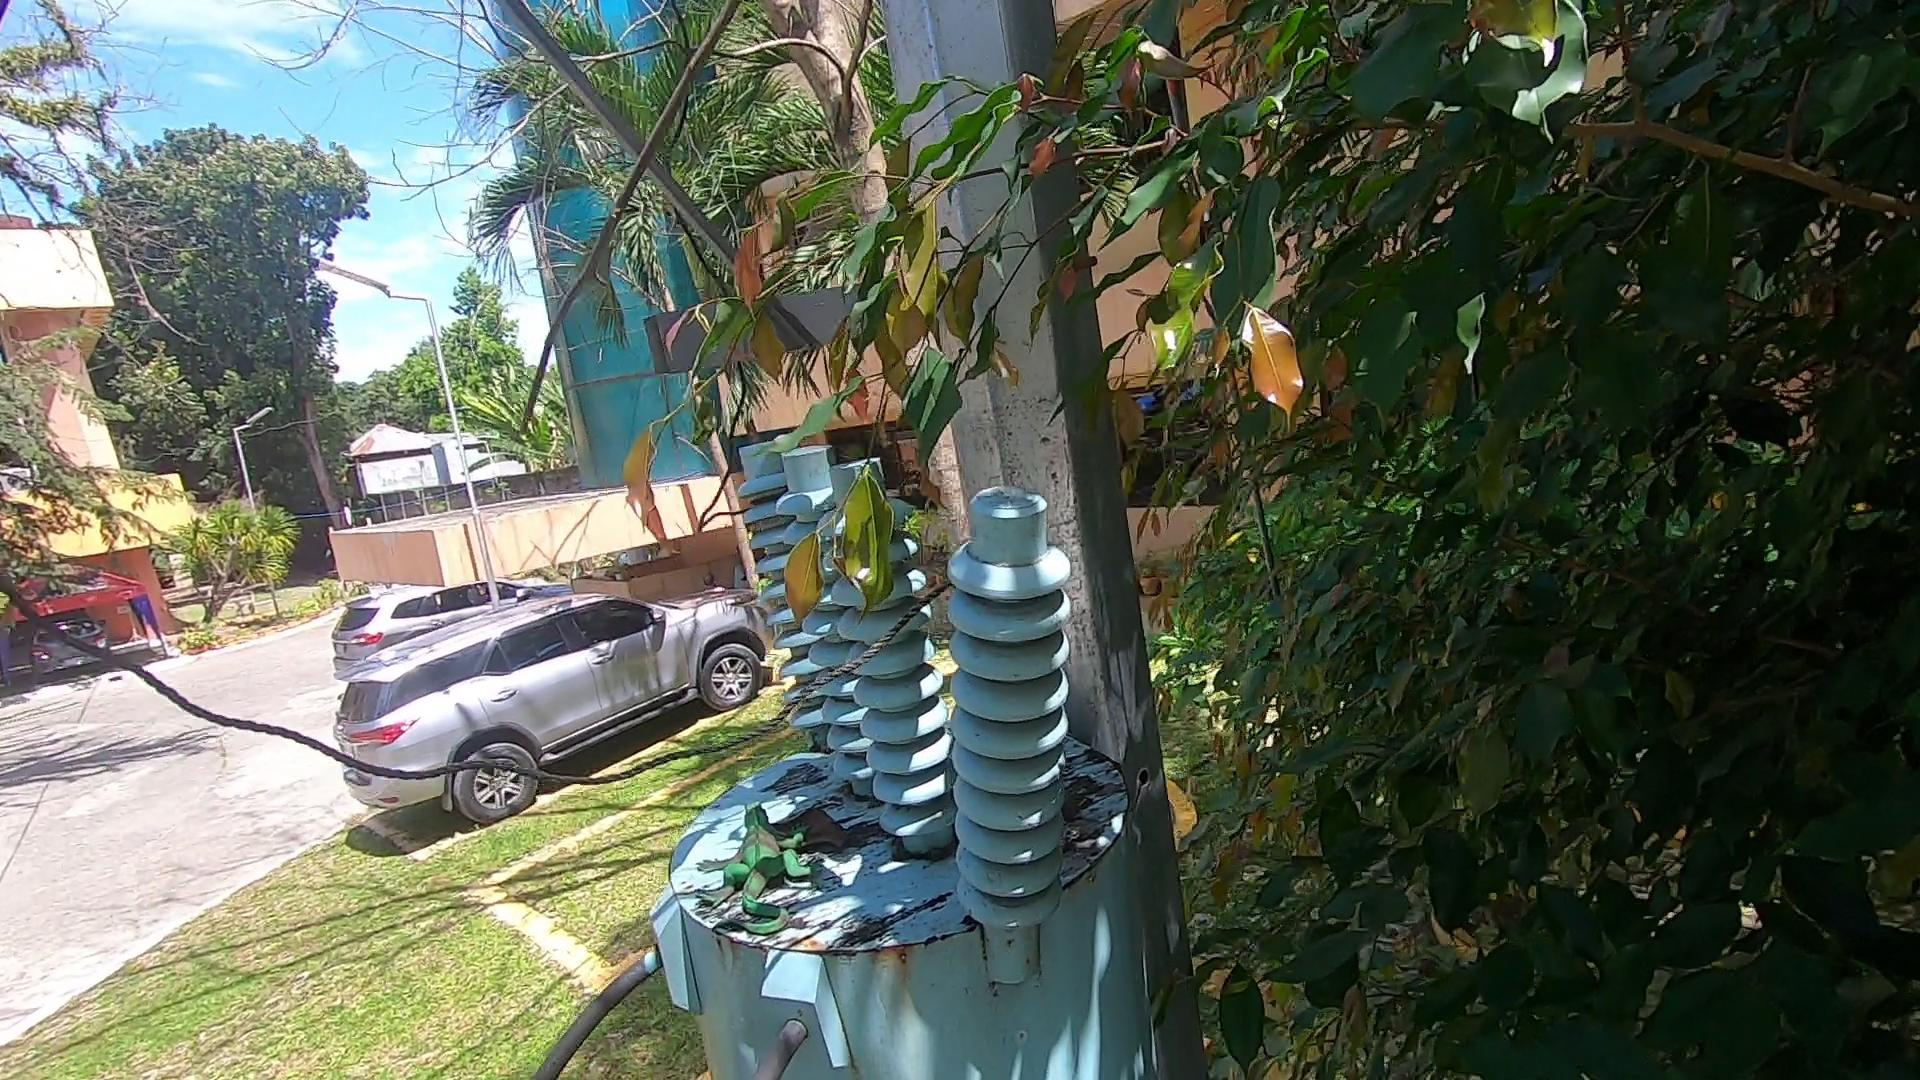leaf: (762, 800, 855, 862)
tree branch: (504, 1, 887, 475)
